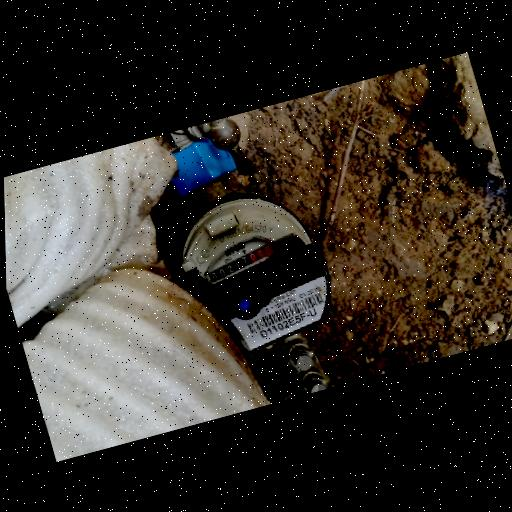0: (246, 249, 259, 263), (207, 269, 220, 282), (214, 265, 227, 278)
1: (253, 245, 268, 259), (230, 257, 244, 271)
2: (222, 261, 236, 275)
5: (262, 241, 276, 257)
7: (238, 254, 251, 267)
border_water_meter_number: (201, 240, 282, 286)
